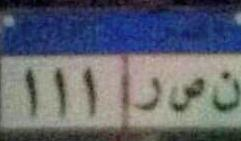1: (79, 67, 102, 116), (21, 69, 43, 120), (51, 69, 71, 118)
noon: (210, 66, 240, 118)
raa: (132, 75, 161, 114)
saad: (168, 77, 205, 114)
